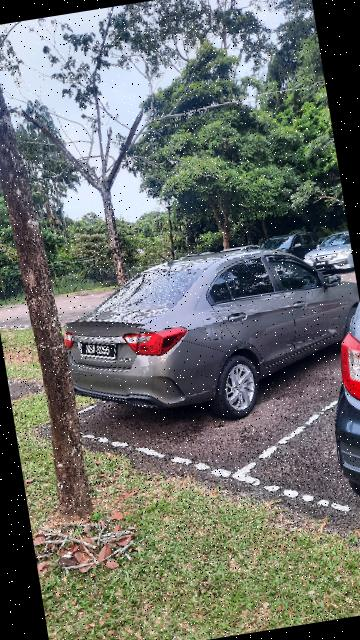License_Plate: (80, 333, 126, 369)
car: (53, 228, 360, 439), (302, 228, 355, 276)
